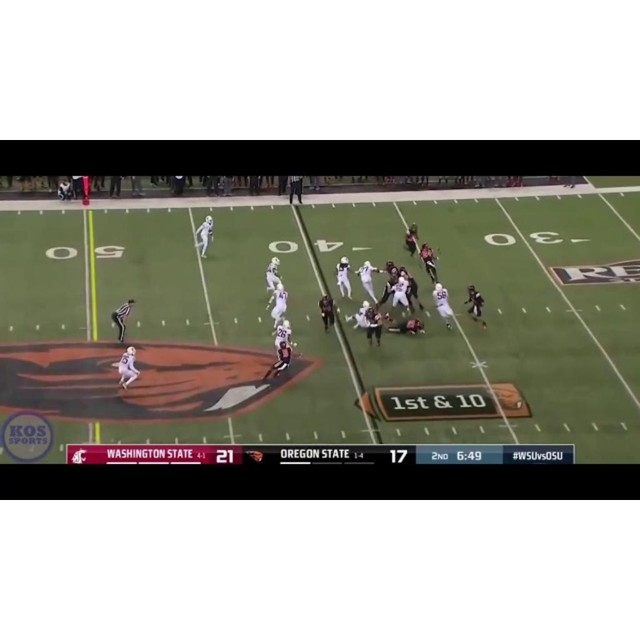american-football-player: (270, 319, 295, 377), (375, 261, 399, 309), (432, 281, 455, 331), (464, 283, 487, 330), (356, 260, 381, 302), (269, 283, 289, 332), (118, 346, 140, 389), (391, 273, 413, 314), (419, 242, 439, 283), (195, 216, 214, 258), (348, 300, 372, 332), (265, 256, 282, 300), (335, 256, 352, 300), (386, 318, 426, 336), (318, 294, 336, 332), (368, 309, 385, 348), (404, 222, 421, 258)
referee: (111, 298, 136, 344), (288, 176, 304, 204)
